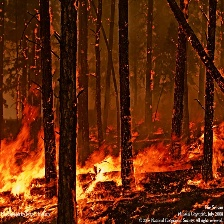fire: (1, 103, 224, 211)
